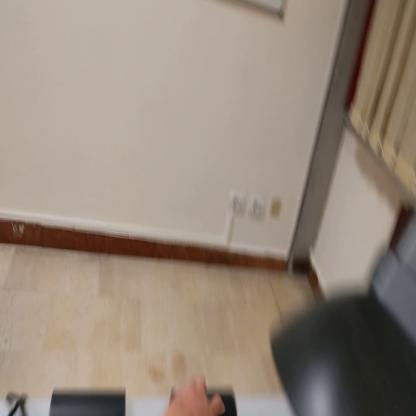hand: (168, 372, 226, 413)
socket: (49, 385, 125, 415), (203, 376, 240, 415)
